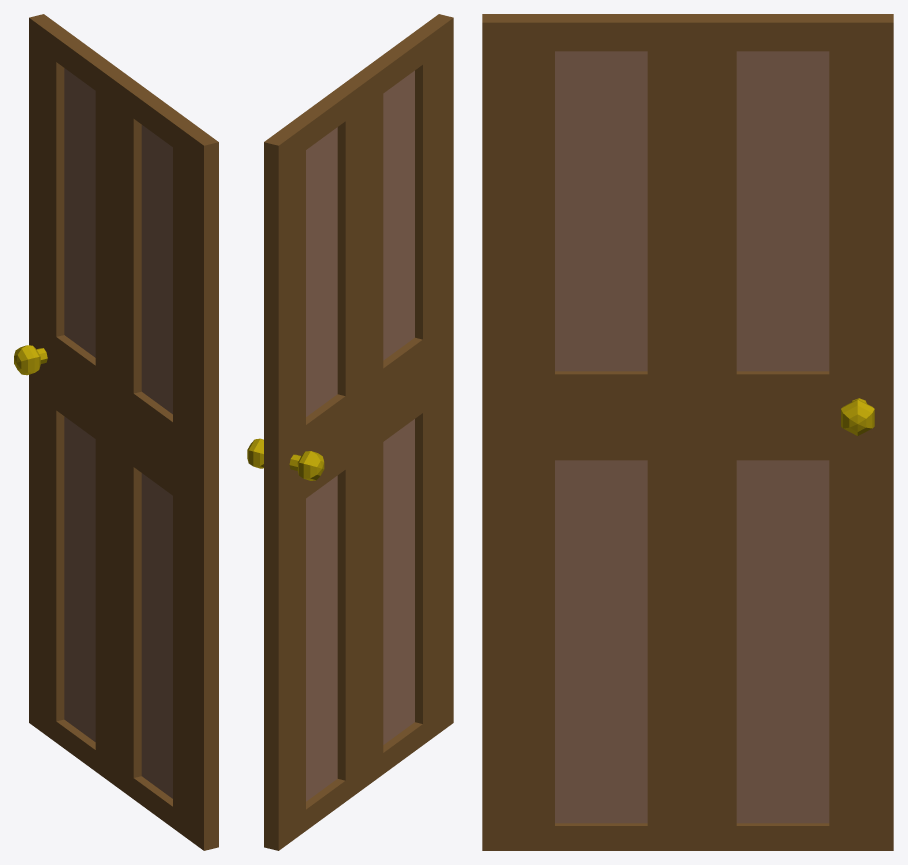
Rendered from Door.fbx.
The picture shows the model from 3 angles, left to right: view 1: azimuth 30°, elevation 25°; view 2: azimuth 150°, elevation 25°; view 3: azimuth 270°, elevation 25°; orthographic projection. The views are drawn at different scales.
Visible parts, largest first — view 1: pCube2; view 2: pCube2; view 3: pCube2.
Boxes of the visible parts, x1,y1,x2,y2 form: pCube2: [14, 14, 218, 850]; pCube2: [247, 14, 453, 850]; pCube2: [482, 14, 893, 850].
Bounding box in the file's own units: 21.98 × 203 × 91.44.
